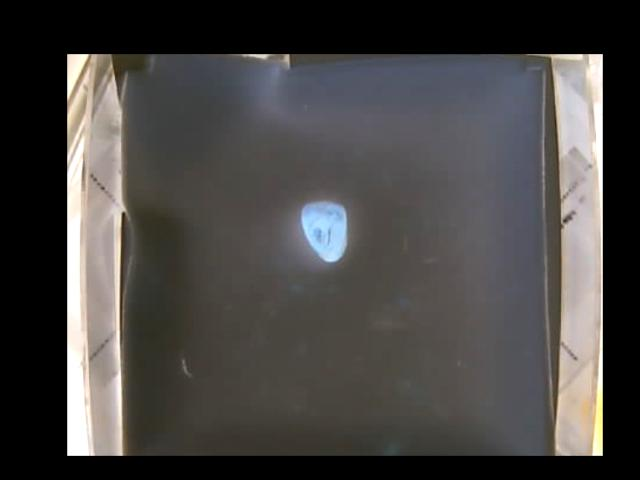Pebble: (302, 202, 345, 262)
